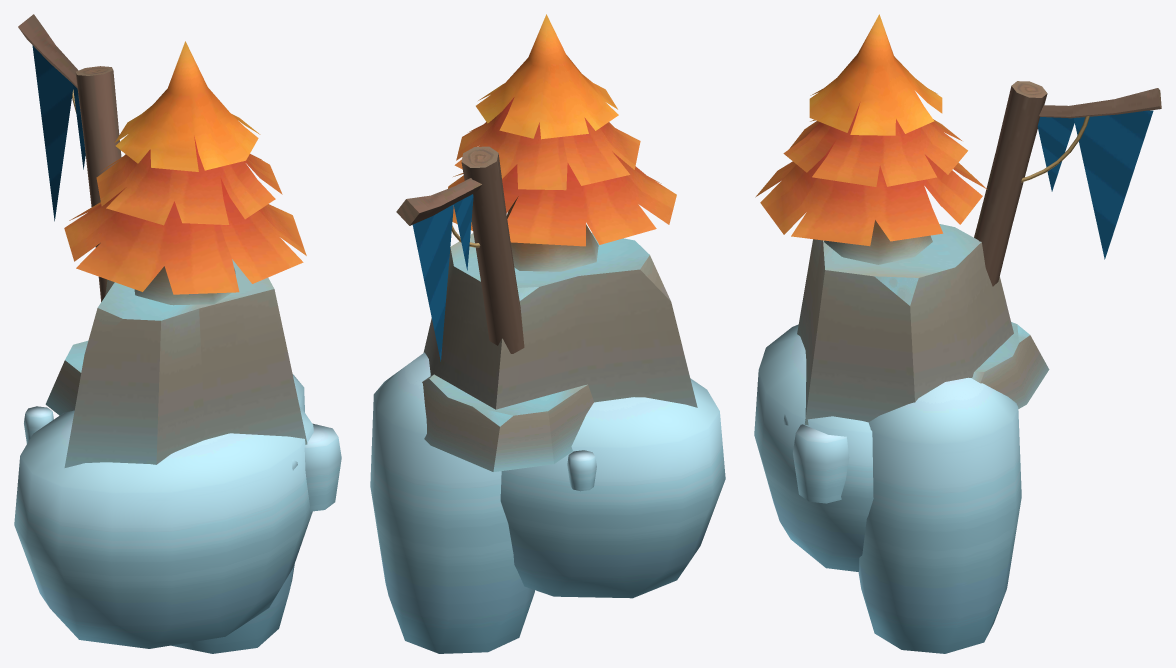
Rendered from Obstacle1B-003_02_26_5255.fbx.
The picture shows the model from 3 angles, left to right: view 1: azimuth 30°, elevation 25°; view 2: azimuth 150°, elevation 25°; view 3: azimuth 270°, elevation 25°; orthographic projection. The views are drawn at different scales.
Parts seen in each view (by area): view 1: Snowpile, Tree1 (1), Rock (2), WoodFat1 (1), Flag1 (1), Snowpile (1), Snowpile (3), Rock (3), Wood1.002 (1), Snowpile (2); view 2: Snowpile, Rock (2), Snowpile (1), Tree1 (1), Rock (3), WoodFat1 (1), Flag1 (1), Wood1.002 (1), Snowpile (2), Flag1 (2); view 3: Snowpile (1), Tree1 (1), Rock (2), Snowpile, WoodFat1 (1), Flag1 (1), Snowpile (3), Rock (3), Wood1.002 (1), Flag1 (2).
Part boxes in pixels (<box>): Snowpile: <box>14,407,313,648</box>; Tree1 (1): <box>64,41,306,305</box>; Rock (2): <box>64,259,307,467</box>; WoodFat1 (1): <box>75,66,121,301</box>; Flag1 (1): <box>32,45,73,221</box>; Snowpile (1): <box>171,374,304,653</box>; Snowpile (3): <box>304,423,341,511</box>; Rock (3): <box>45,341,88,415</box>; Wood1.002 (1): <box>18,14,78,88</box>; Snowpile (2): <box>24,406,53,443</box>; Snowpile: <box>500,378,725,598</box>; Rock (2): <box>423,232,697,409</box>; Snowpile (1): <box>370,352,534,653</box>; Tree1 (1): <box>448,14,676,271</box>; Rock (3): <box>422,374,594,472</box>; WoodFat1 (1): <box>461,146,524,353</box>; Flag1 (1): <box>412,204,453,361</box>; Wood1.002 (1): <box>396,178,482,225</box>; Snowpile (2): <box>567,450,596,491</box>; Flag1 (2): <box>453,194,473,270</box>; Snowpile (1): <box>858,377,1021,653</box>; Tree1 (1): <box>755,14,987,264</box>; Rock (2): <box>797,224,1013,425</box>; Snowpile: <box>754,324,873,571</box>; WoodFat1 (1): <box>974,81,1047,286</box>; Flag1 (1): <box>1073,110,1153,259</box>; Snowpile (3): <box>793,424,849,503</box>; Rock (3): <box>971,322,1049,408</box>; Wood1.002 (1): <box>1039,88,1161,118</box>; Flag1 (2): <box>1037,117,1074,191</box>.
Size of the model in its own units: 2.97 by 5.79 by 3.64.
